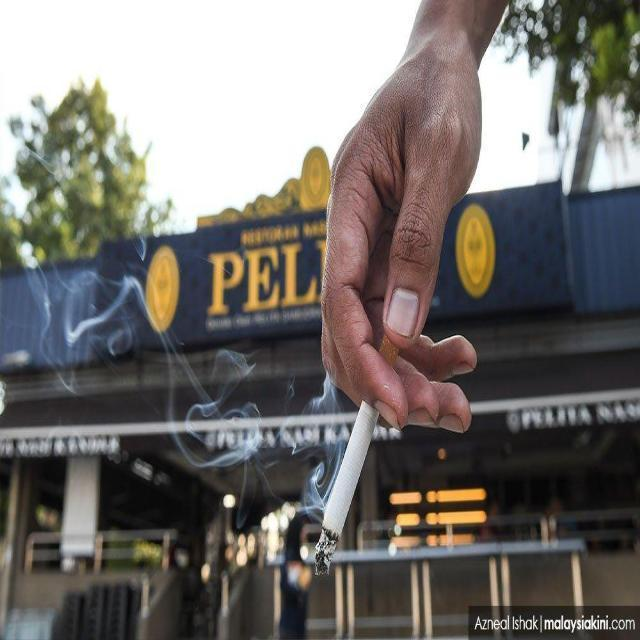rokok: (313, 337, 401, 577)
